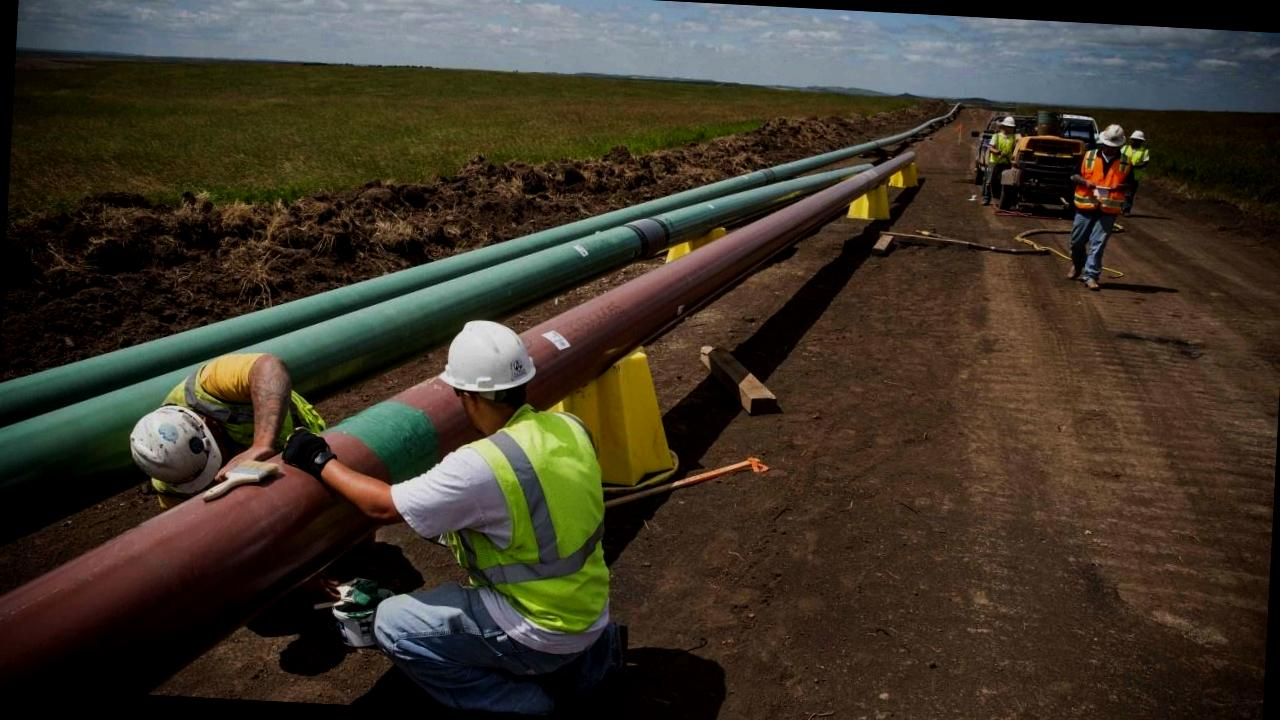helmet: (121, 402, 225, 497), (434, 310, 540, 396), (1092, 116, 1128, 152)
person: (356, 308, 638, 716), (1060, 114, 1136, 292), (976, 110, 1024, 212)
